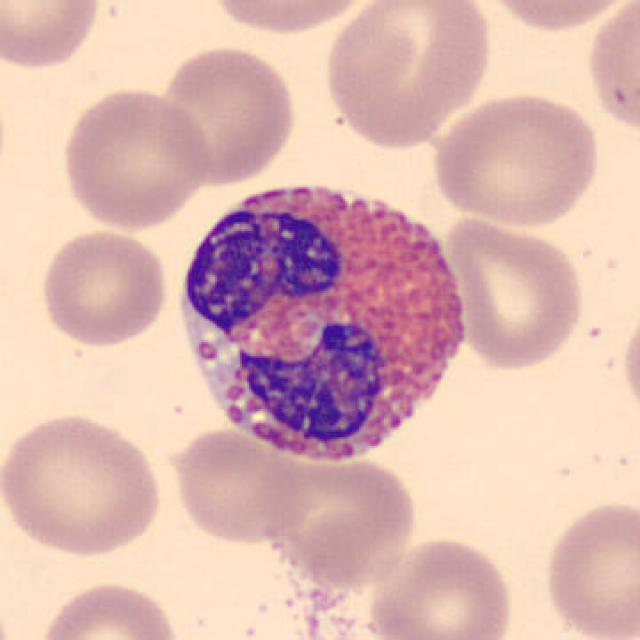Eosinophil: (162, 160, 487, 487)
RBC: (318, 0, 496, 152), (0, 407, 167, 559), (426, 88, 604, 229), (57, 81, 213, 233), (441, 215, 587, 372), (265, 451, 421, 591), (154, 41, 298, 185), (162, 423, 311, 547), (36, 226, 170, 349), (364, 534, 518, 640), (539, 495, 638, 640), (35, 576, 184, 640), (583, 0, 640, 141), (0, 0, 105, 72), (203, 0, 384, 37), (469, 0, 638, 35), (618, 296, 640, 426)
